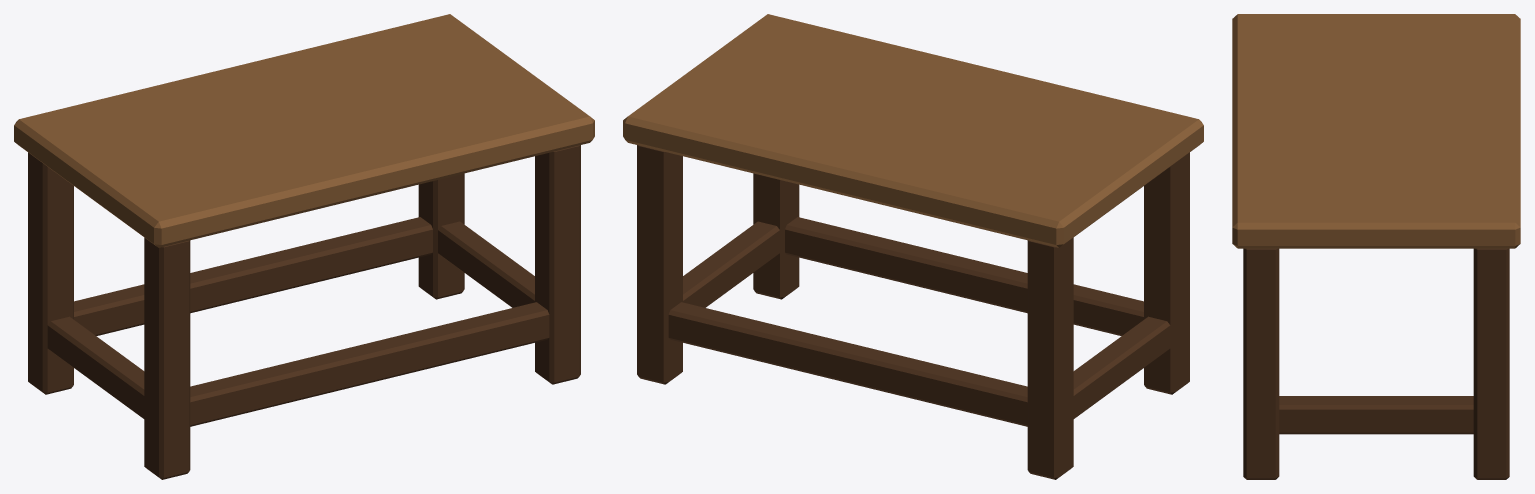
The model's file is table.fbx.
3 renders of one model, left to right at view 1: azimuth 30°, elevation 25°; view 2: azimuth 150°, elevation 25°; view 3: azimuth 270°, elevation 25°, orthographic.
Visible parts, largest first — view 1: table; view 2: table; view 3: table.
Part boxes in pixels (left/top/right/bottom): table: left=14, top=14, right=594, bottom=479; table: left=623, top=14, right=1203, bottom=479; table: left=1232, top=14, right=1520, bottom=479.
Bounding box in the file's own units: 140 × 80 × 80.
